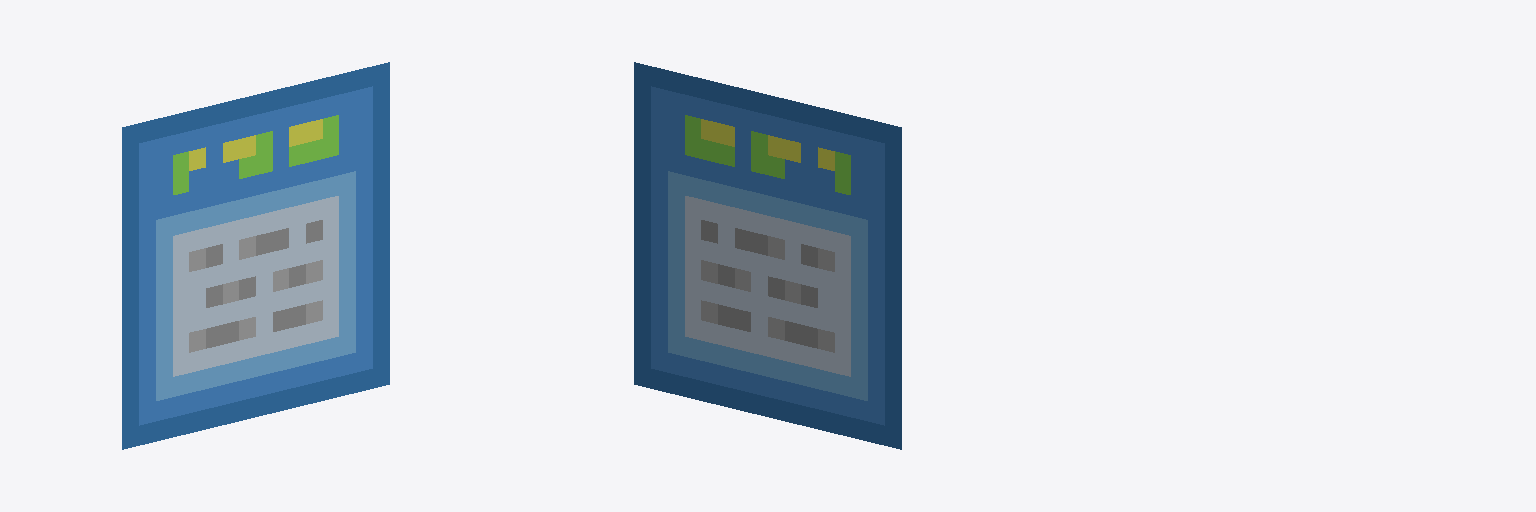
3 renders of one model, left to right at view 1: azimuth 30°, elevation 25°; view 2: azimuth 150°, elevation 25°; view 3: azimuth 270°, elevation 25°, orthographic.
Parts seen in each view (by area): view 1: polygon0; view 2: polygon0; view 3: none.
Part boxes in pixels (bbox=[...]): polygon0: bbox=[122, 62, 389, 449]; polygon0: bbox=[634, 62, 901, 449].
Bounding box in the file's own units: 3.25 × 3.75 × 0.
Materials: 1 (1 with a texture image).